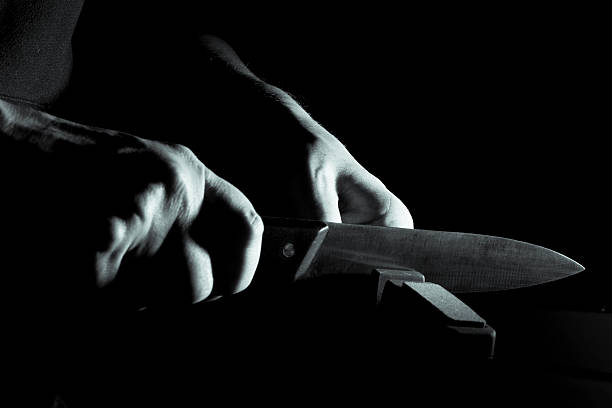knife: (261, 219, 589, 295)
